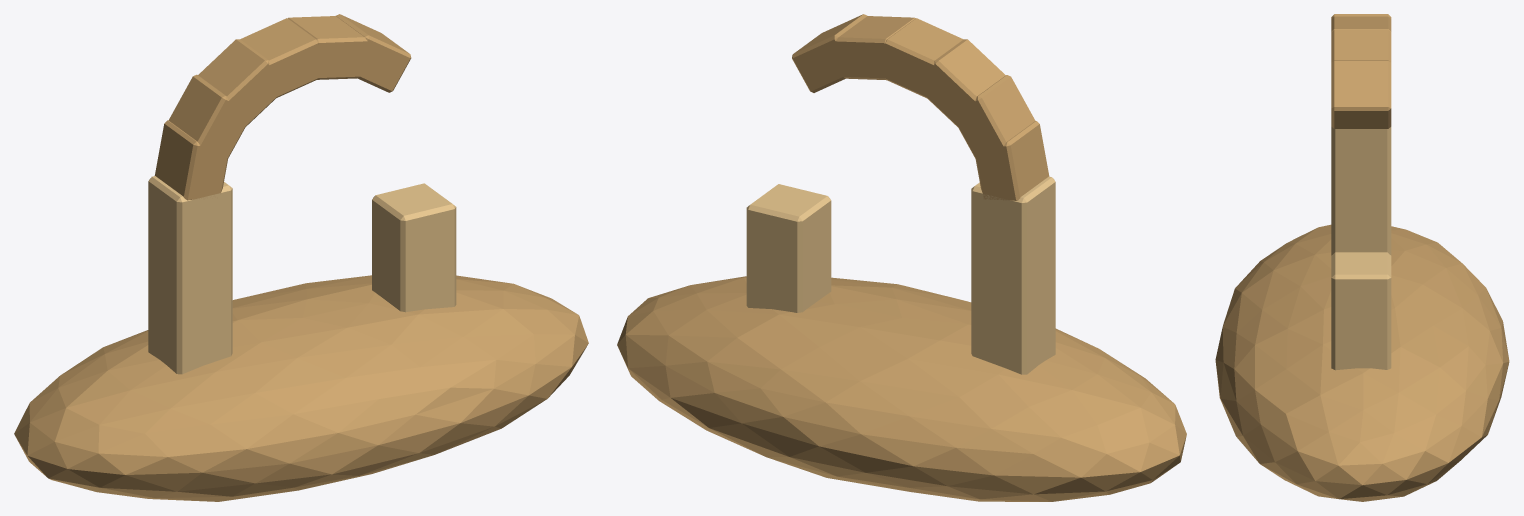
The model's file is map3_ruin_arch_v01.glb.
The picture shows the model from 3 angles, left to right: view 1: azimuth 30°, elevation 25°; view 2: azimuth 150°, elevation 25°; view 3: azimuth 270°, elevation 25°; orthographic projection. The views are drawn at different scales.
Parts seen in each view (by area): view 1: ruin_arch; view 2: ruin_arch; view 3: ruin_arch.
Boxes of the visible parts, left/top/right/bottom form: ruin_arch: left=14, top=14, right=588, bottom=501; ruin_arch: left=617, top=14, right=1186, bottom=501; ruin_arch: left=1215, top=14, right=1509, bottom=501.
Size of the model in its own units: 7.83 by 5.88 by 3.94.
